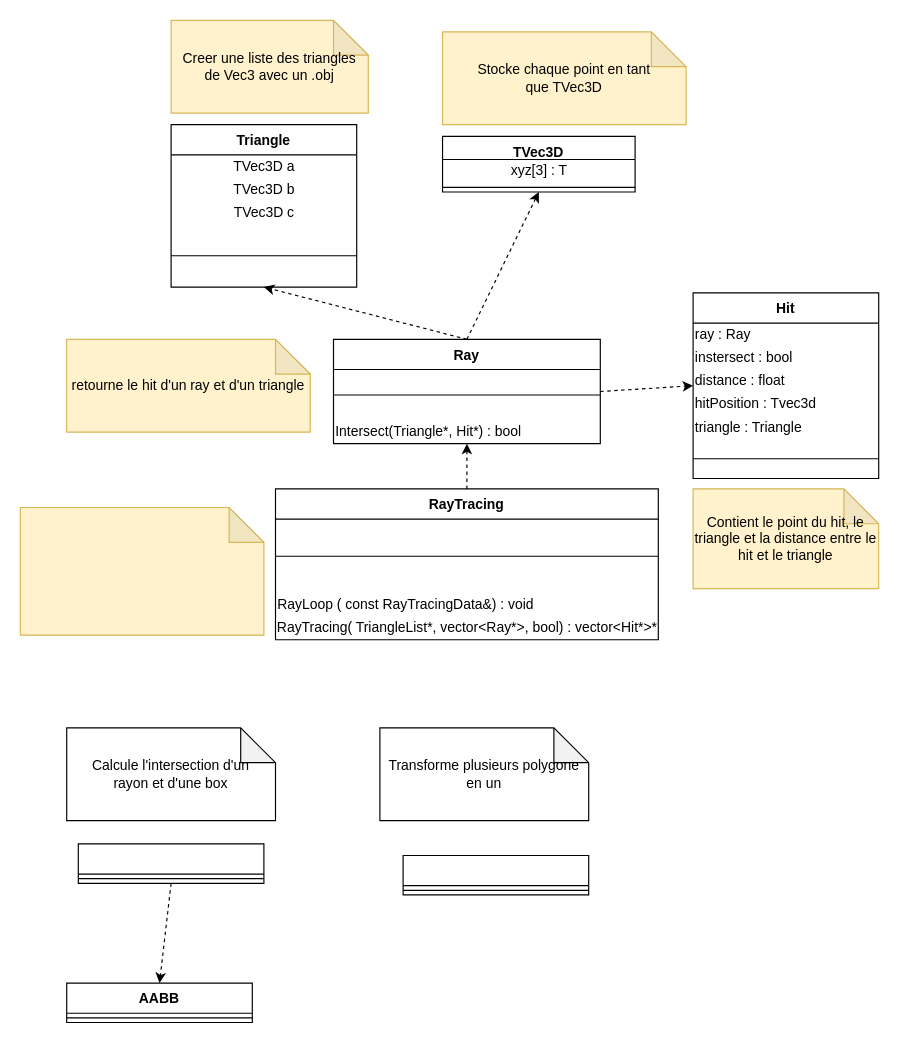
This 899x1043 diagram has some shape labels left out. The centre of each missing label's shape, as x and y in pixels:
Creer une liste de hit a partir de plusieurs ray et une liste de triangles: [141,570]
OGRGDALTools: [495,874]
RayBox: [170,863]
